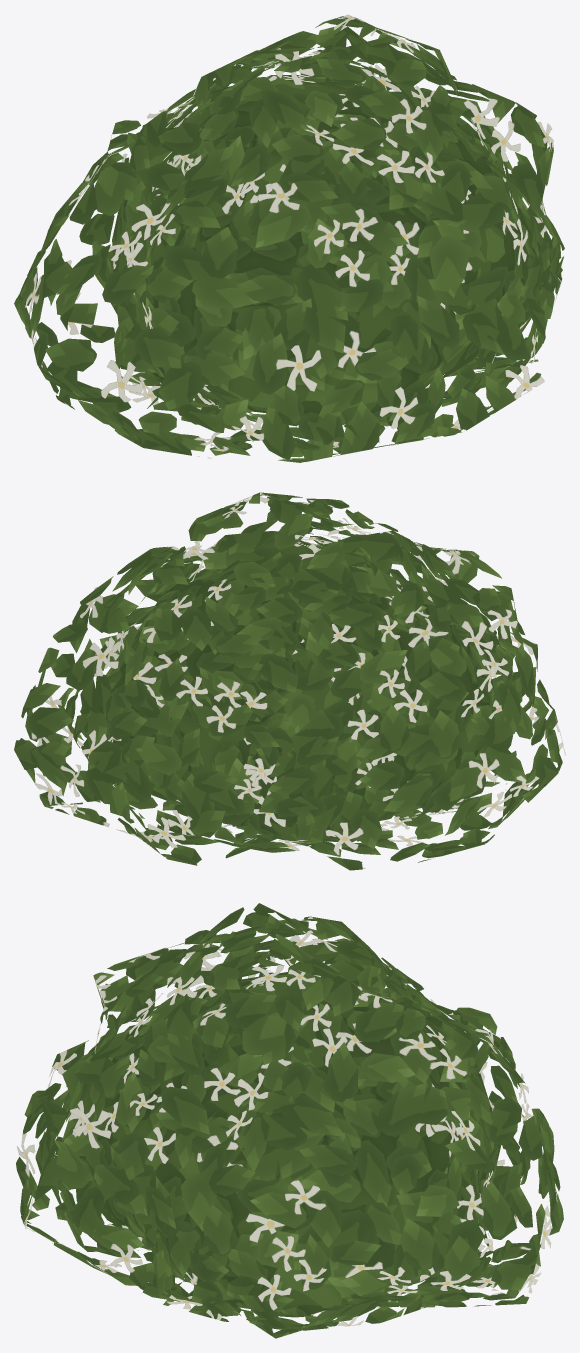
Rendered from SM_Env_Bush_02.fbx.
3 views of the same model, one above another, from view 1: azimuth 30°, elevation 25°; view 2: azimuth 150°, elevation 25°; view 3: azimuth 270°, elevation 25° (orthographic). The views are drawn at different scales.
Visible parts, largest first — view 1: SM_Env_Bush_02_LOD0; view 2: SM_Env_Bush_02_LOD0; view 3: SM_Env_Bush_02_LOD0.
Part boxes in pixels (box(x1,y1,x2,y2)): SM_Env_Bush_02_LOD0: box(14, 14, 564, 462); SM_Env_Bush_02_LOD0: box(14, 492, 565, 870); SM_Env_Bush_02_LOD0: box(16, 903, 563, 1338).
Size of what is drawn, in the model's own units: 202 by 126 by 185.
